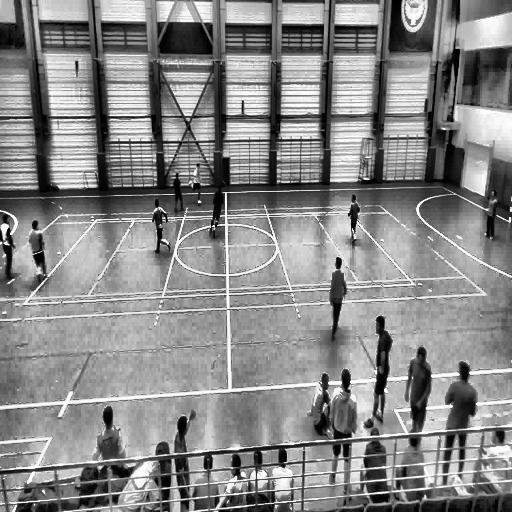ball: (196, 198, 203, 208)
player: (440, 361, 476, 480), (326, 368, 358, 491), (406, 345, 432, 448), (368, 315, 392, 426), (475, 425, 512, 495), (173, 410, 197, 510), (90, 406, 126, 465), (215, 451, 249, 512), (396, 430, 425, 501), (358, 428, 386, 500), (308, 372, 333, 436), (328, 255, 346, 341), (270, 448, 294, 512), (196, 451, 220, 512), (29, 218, 49, 285), (249, 448, 270, 504), (0, 212, 17, 280), (153, 198, 172, 254), (209, 183, 225, 237), (484, 189, 498, 241), (347, 192, 359, 246), (173, 173, 184, 211), (194, 163, 202, 206)
